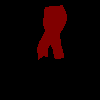fuseaux: (37, 4, 67, 60)
